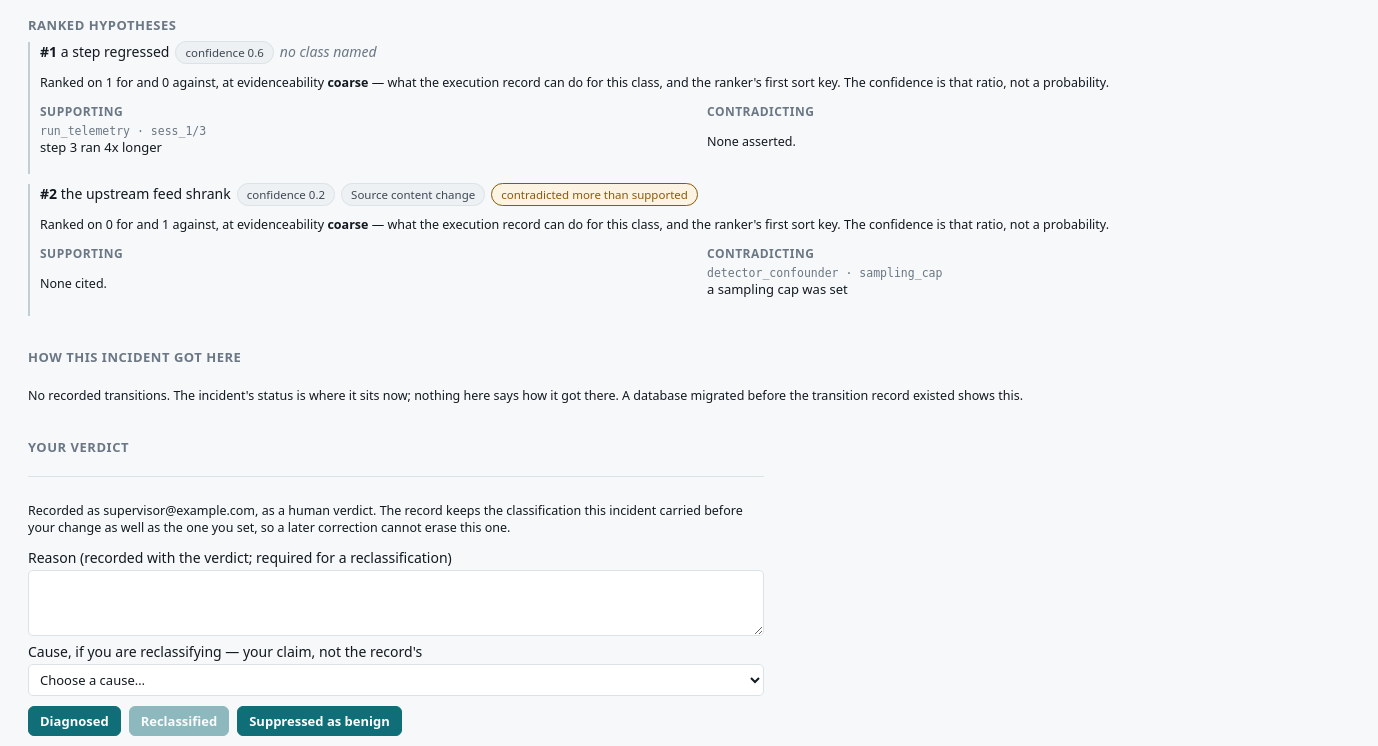
Test case: the verdict control › says in words when a verdict is recorded and not hash-chained
(page scrolled)
What coordinates should you click on to do the following:
click the button "Diagnosed"
I would click on:
 (74, 721)
Its box is [28,706,121,736].
(page scrolled)
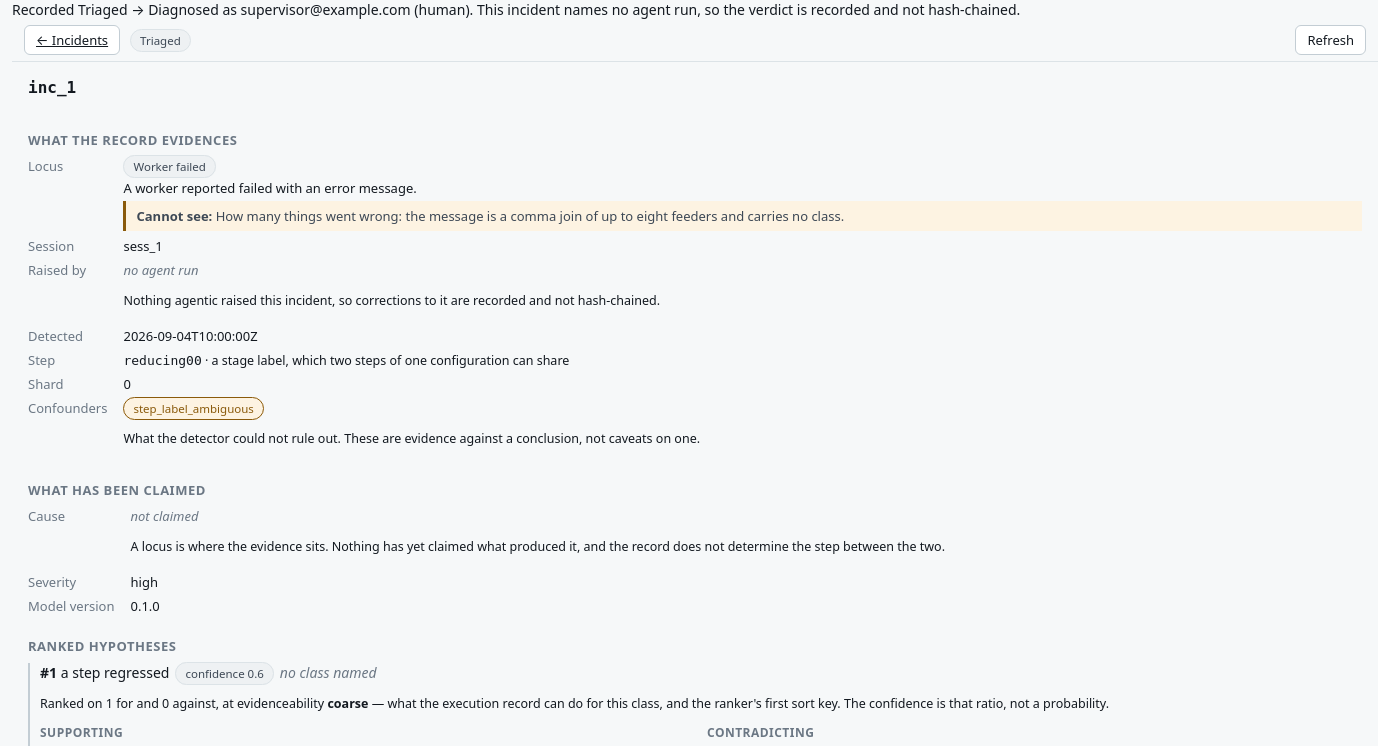
Result: the text with test id "banner" shows "not hash-chained" at [12,0,1020,19]
